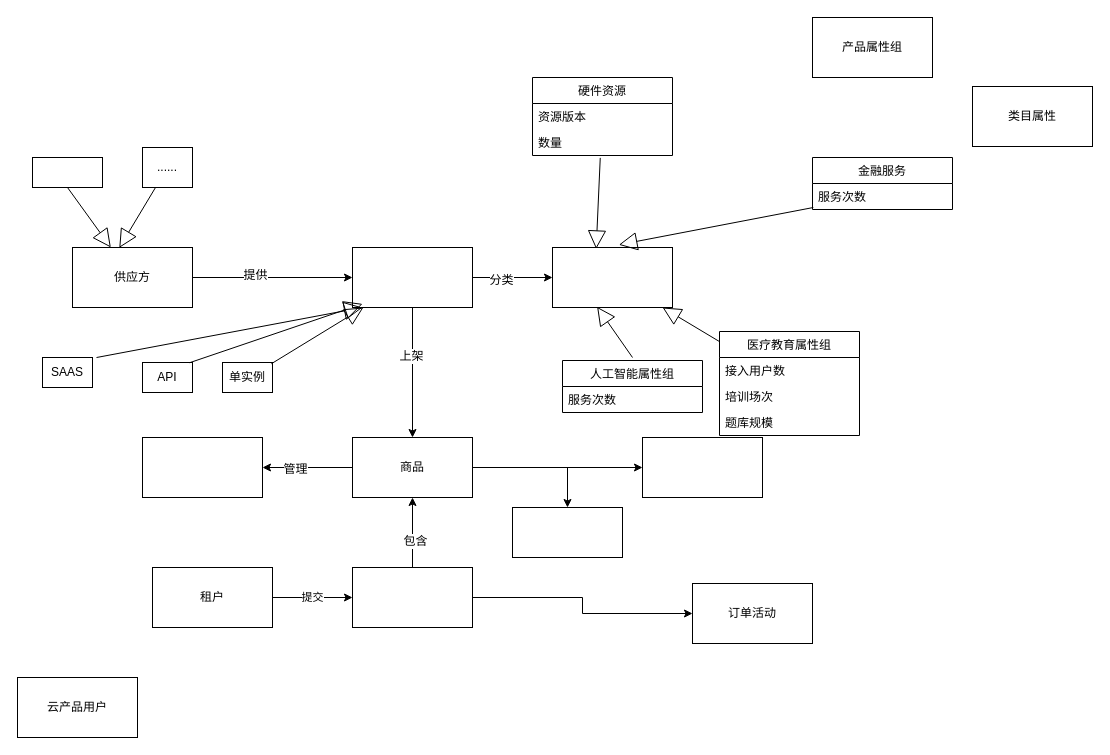
This 1110x755 diagram has some shape labels left out. Each missing label, with the centre of its shape:
AI部门: the point at 67,172
产品: the point at 412,277
产品类目: the point at 612,277
商品活动: the point at 702,467
库存: the point at 202,467
计费方式: the point at 567,532
订单: the point at 412,597
